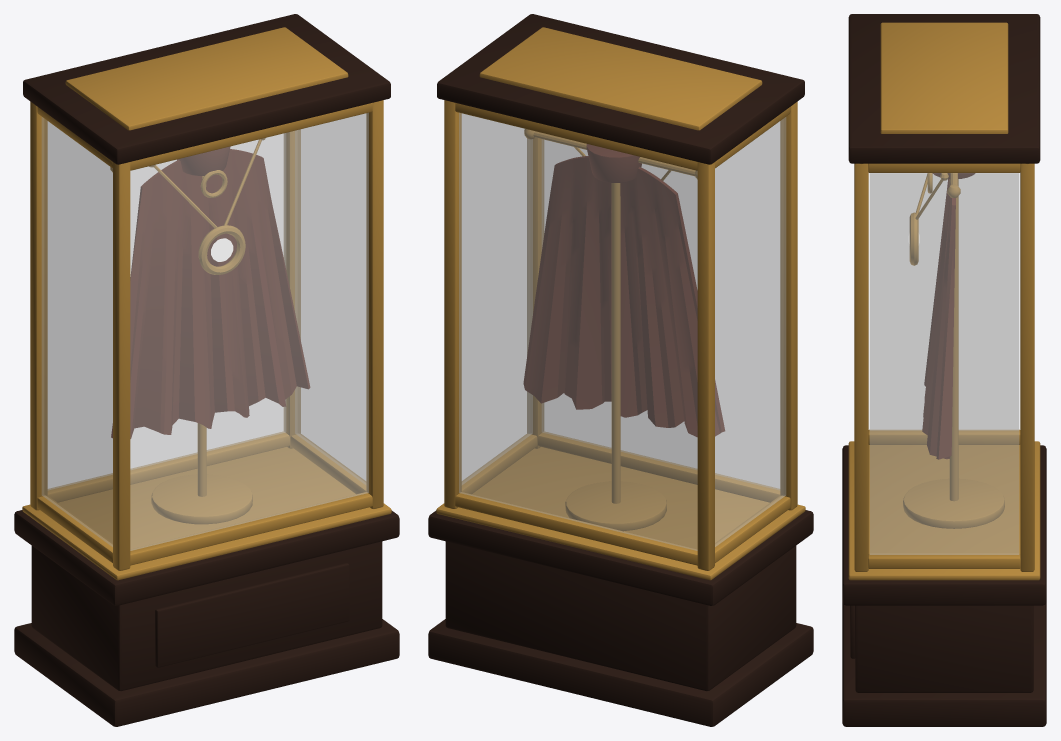
File: prop_relic_case.glb
3 views of the same model, side by side, from view 1: azimuth 30°, elevation 25°; view 2: azimuth 150°, elevation 25°; view 3: azimuth 270°, elevation 25° (orthographic).
Visible parts, largest first — view 1: prop_relic_case; view 2: prop_relic_case; view 3: prop_relic_case.
Part boxes in pixels (x1,y1,x2,y2): prop_relic_case: [14, 14, 399, 726]; prop_relic_case: [428, 14, 813, 726]; prop_relic_case: [842, 14, 1046, 726].
Size of the model in its own units: 1.04 by 2.02 by 0.64.
